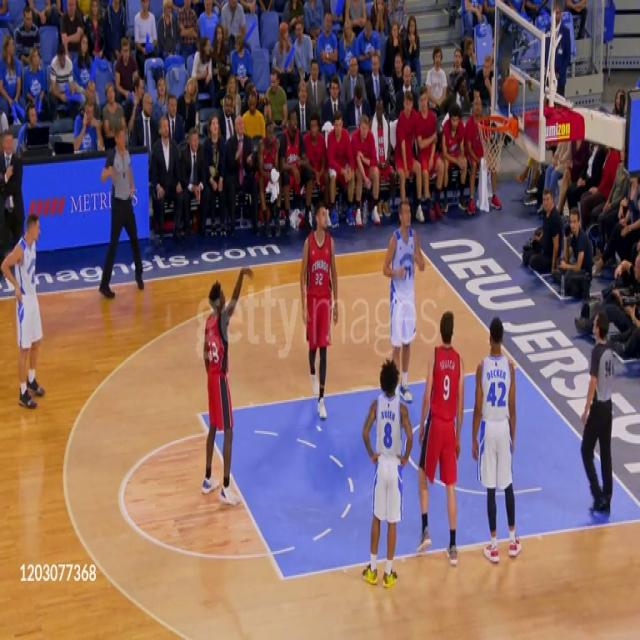ball: (501, 75, 519, 104)
